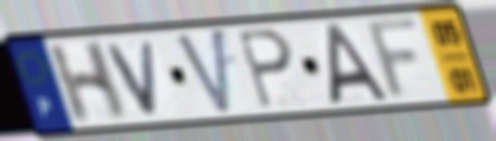A: (324, 20, 392, 108)
F: (362, 13, 426, 105)
H: (45, 37, 131, 127)
P: (233, 27, 297, 113)
V: (171, 24, 233, 119), (103, 37, 163, 119)
